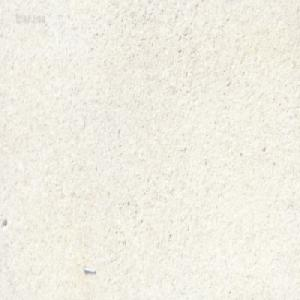Nail: (81, 264, 96, 273)
